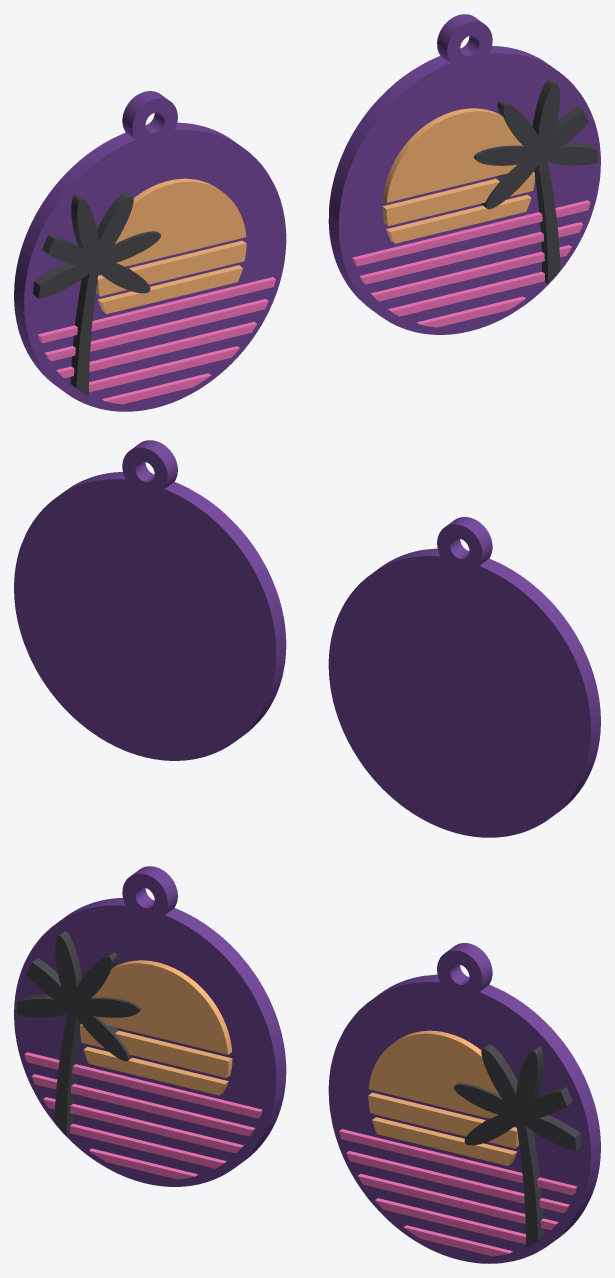
Rendered from aretes-sol-retro.glb.
3 views of the same model, one above another, from view 1: azimuth 30°, elevation 25°; view 2: azimuth 150°, elevation 25°; view 3: azimuth 330°, elevation 25° (orthographic).
Visible parts, largest first — view 1: morado, naranja, rosa, negro; view 2: morado; view 3: morado, naranja, rosa, negro.
Part boxes in pixels (x1,y1,x2,y2): morado: (14, 14, 600, 411); naranja: (95, 108, 534, 313); rosa: (37, 200, 590, 404); negro: (33, 79, 597, 395); morado: (14, 440, 600, 837); morado: (14, 866, 600, 1263); naranja: (80, 960, 519, 1165); rosa: (24, 1052, 577, 1256); negro: (17, 931, 581, 1247).
Size of the model in its own units: 66 by 33.8 by 3.2.
